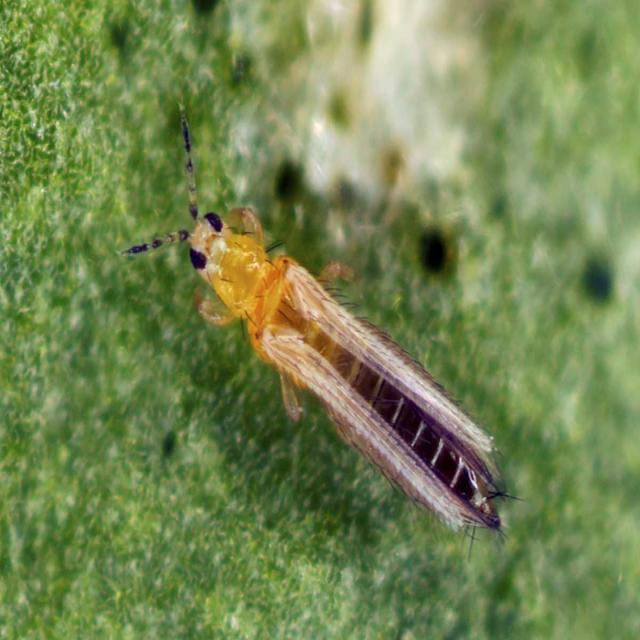Thrip-Adult-: (102, 96, 532, 561)
